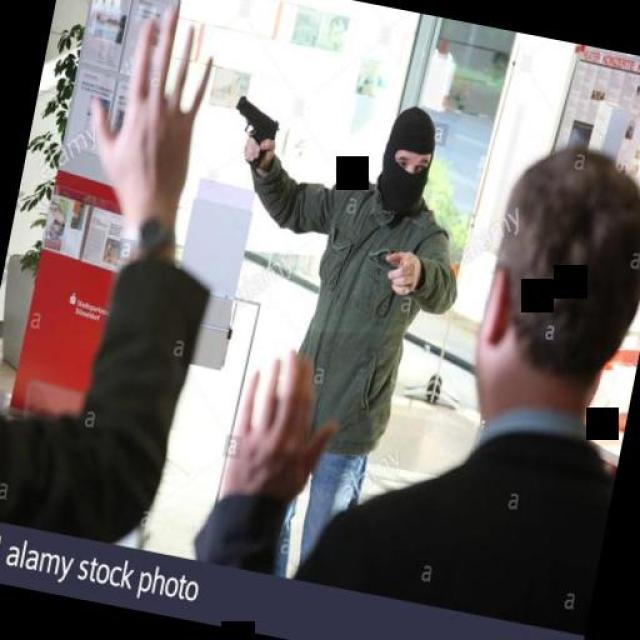gun: (224, 91, 282, 171)
